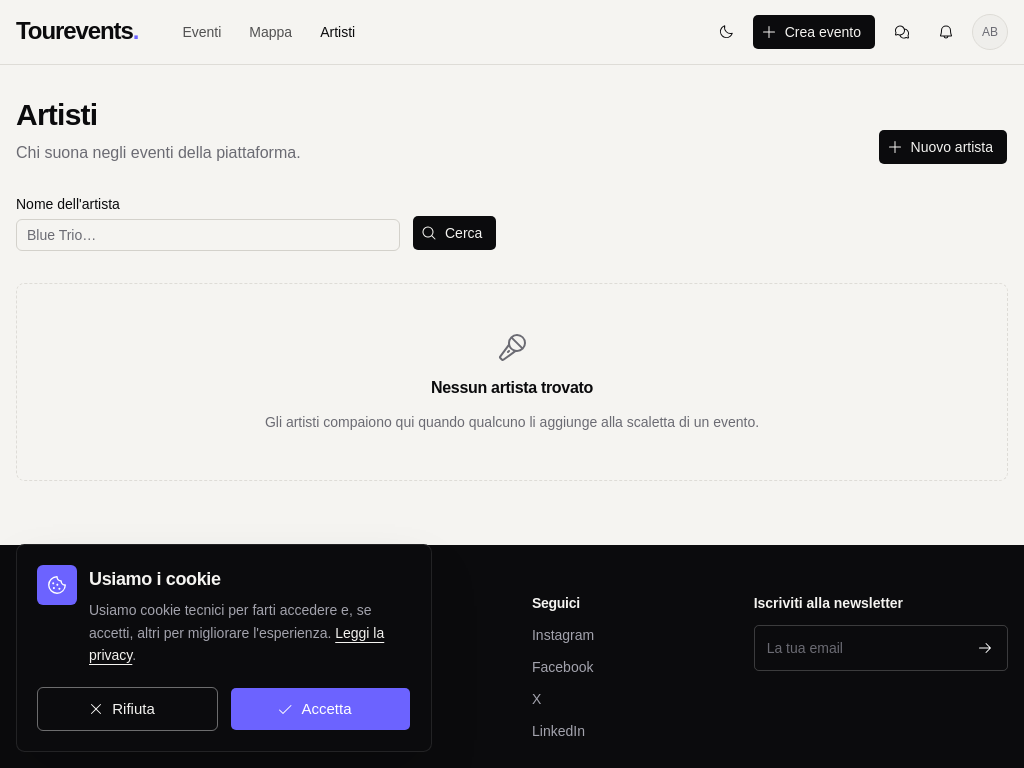
Test: ArtistsPage › utente loggato: crea un artista (vuoti -> null) e arriva al suo dettaglio
This screenshot has width=1024, height=768.
Click the button "Nuovo artista".
click(943, 147)  # box [878,129,1008,165]
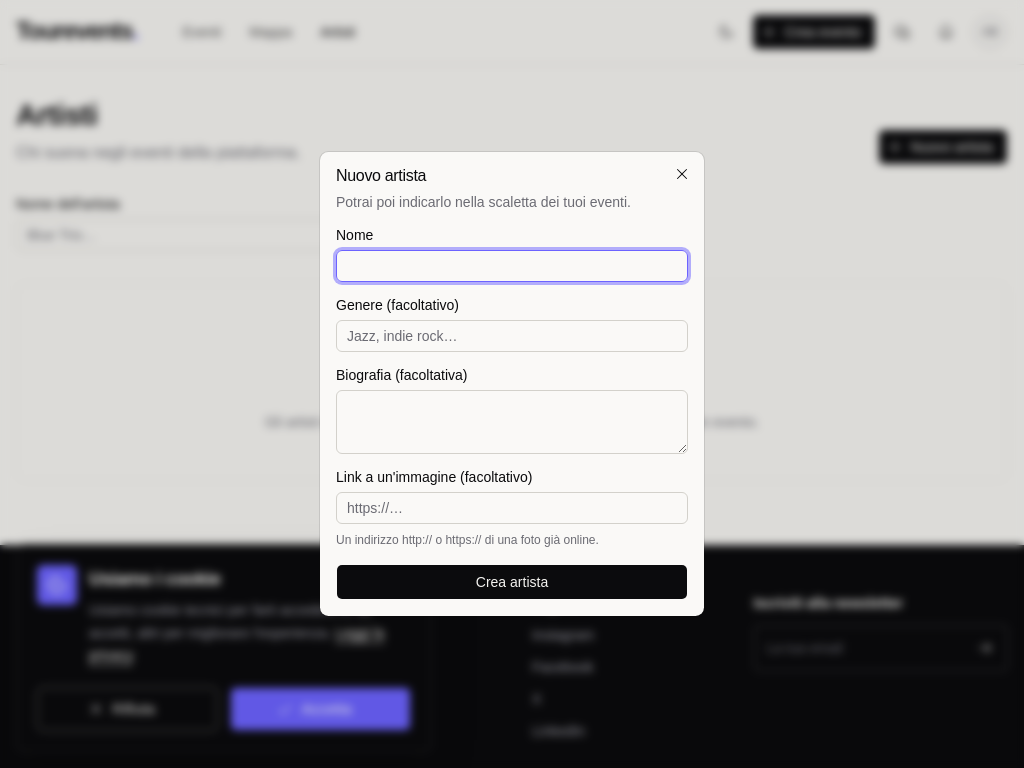
Type " Nuova Onda " into the field labelled "Nome".
click(512, 266); type(" Nuova Onda ")  # box [336,250,688,282]
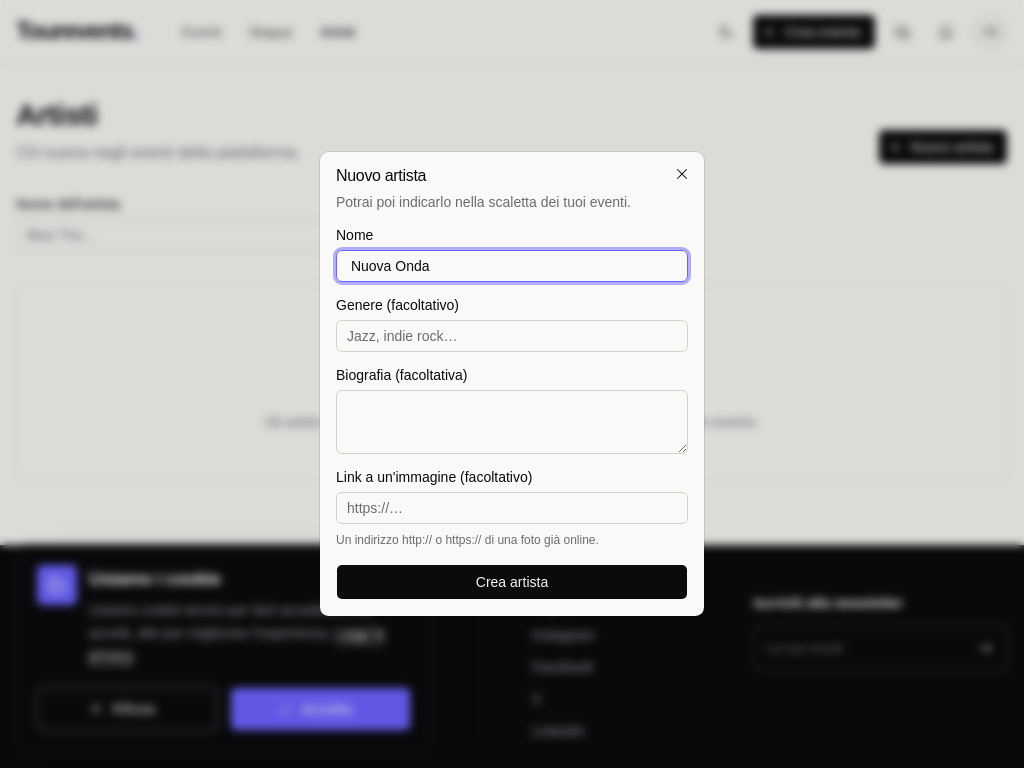
Click the button "Crea artista".
click(512, 582)  # box [336,564,688,600]
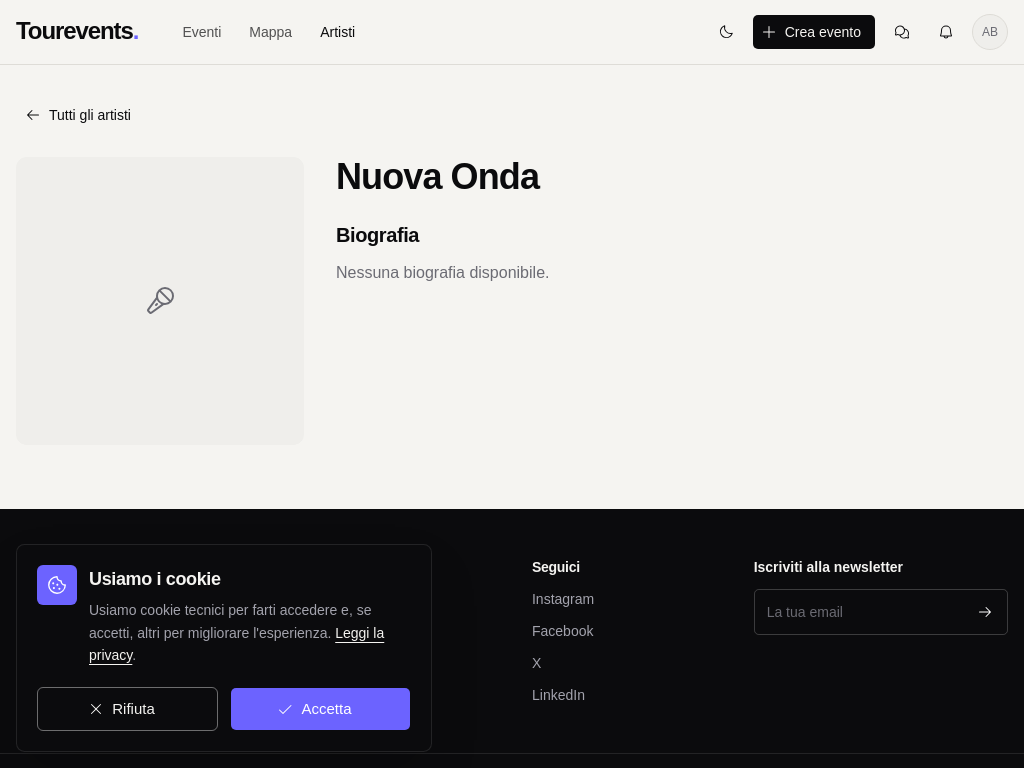
Expected: the heading "Nuova Onda" is shown, [336,157,539,197]
